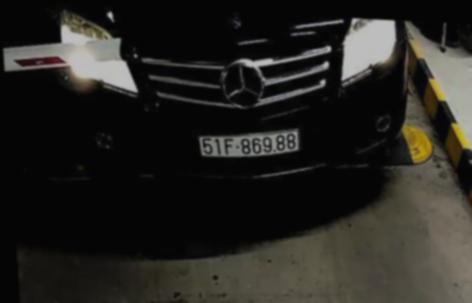License_Plate: (195, 122, 302, 166)
